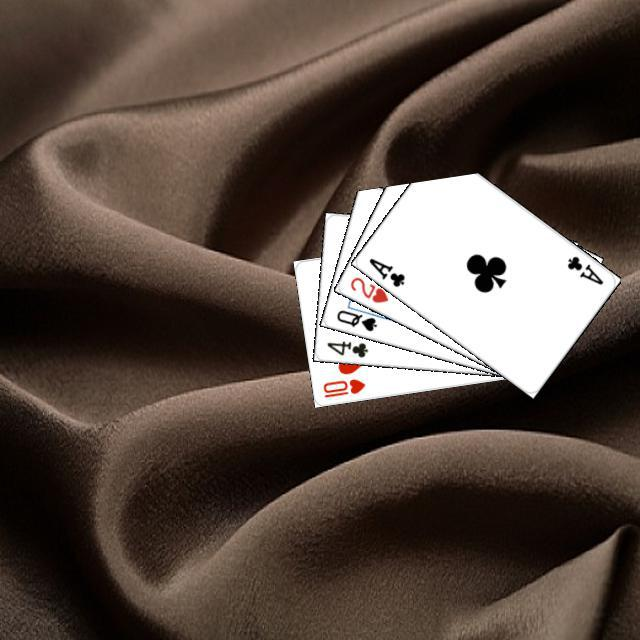10h: (318, 374, 367, 399)
2h: (345, 272, 390, 305)
4c: (322, 336, 370, 359)
Ac: (364, 253, 407, 289), (562, 251, 605, 287)
Qs: (332, 305, 378, 333)
